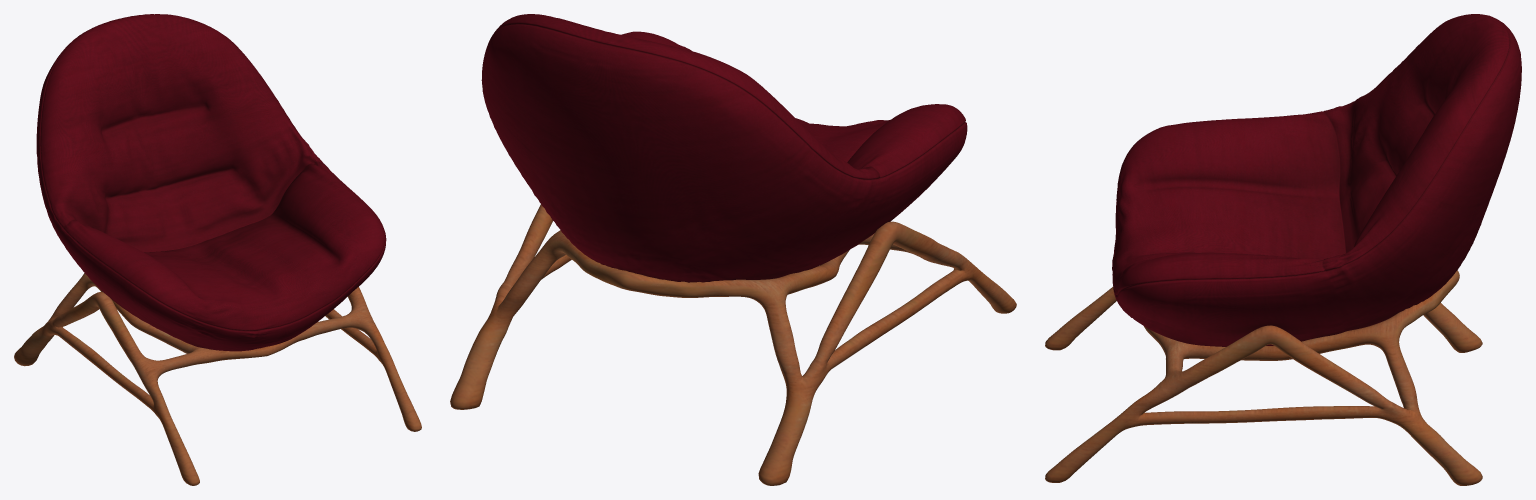
File: chair_3.glb
The picture shows the model from 3 angles, left to right: view 1: azimuth 30°, elevation 25°; view 2: azimuth 150°, elevation 25°; view 3: azimuth 270°, elevation 25°; orthographic projection. The views are drawn at different scales.
Parts seen in each view (by area): view 1: Wooden Sofa; view 2: Wooden Sofa; view 3: Wooden Sofa.
Boxes of the visible parts, box(x1,y1,x2,y2) form: Wooden Sofa: box(14, 14, 421, 485); Wooden Sofa: box(450, 14, 1016, 485); Wooden Sofa: box(1045, 14, 1521, 485).
Size of the model in its own units: 0.9284 by 1.03 by 1.18.
Materials: 2 (2 with a texture image).
